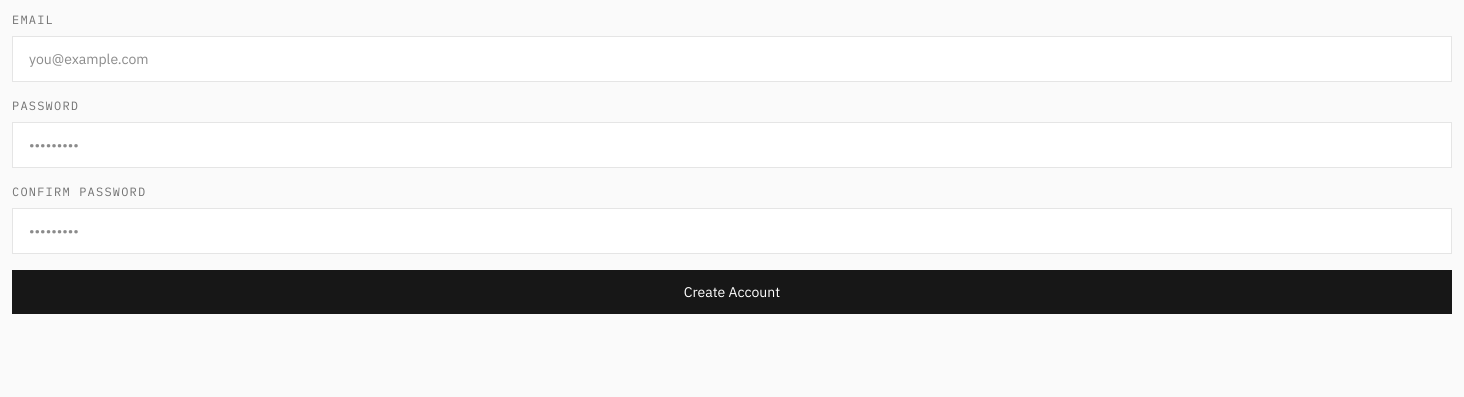
it: AuthForm › register mode › should validate password length
Fill in email (required field) and passwords
Type "test@example.com" into the field labelled "Email" at (732, 59), box [12,36,1452,82]
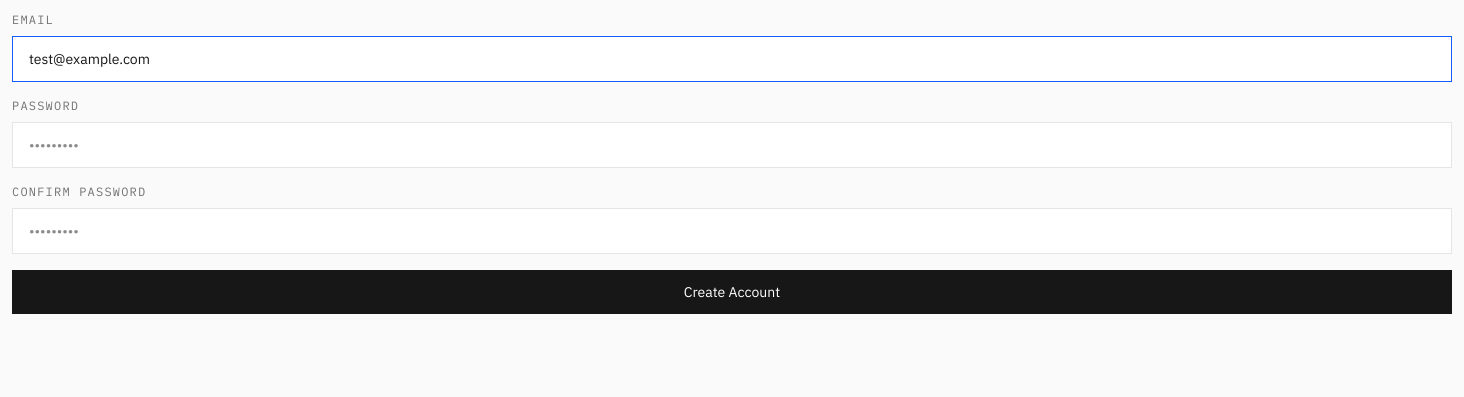
Type "short" into the password field labelled "Password" at (732, 145), box [12,122,1452,168]
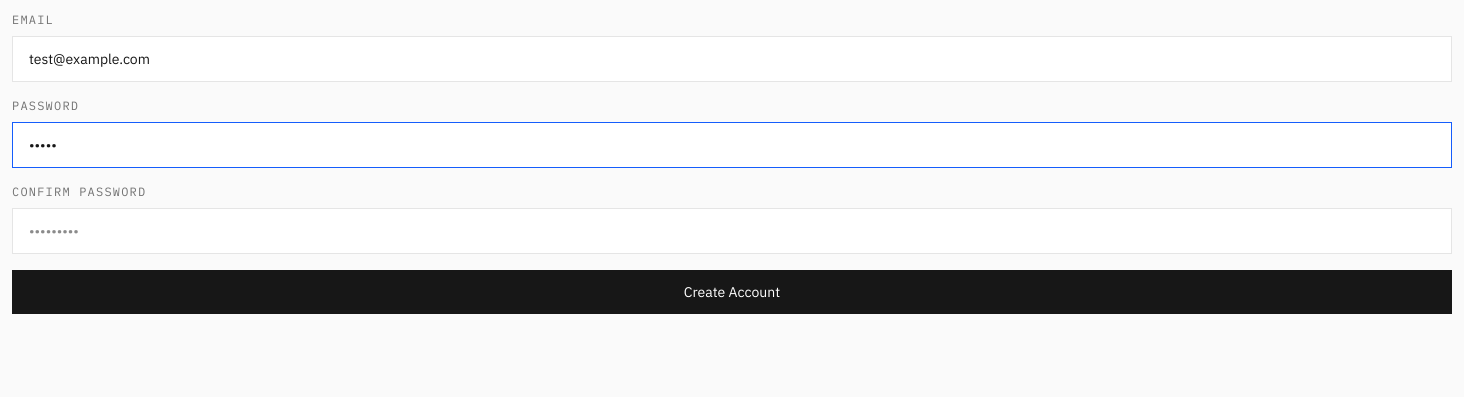
Type "short" into the password field labelled "Confirm Password" at (732, 231), box [12,208,1452,254]
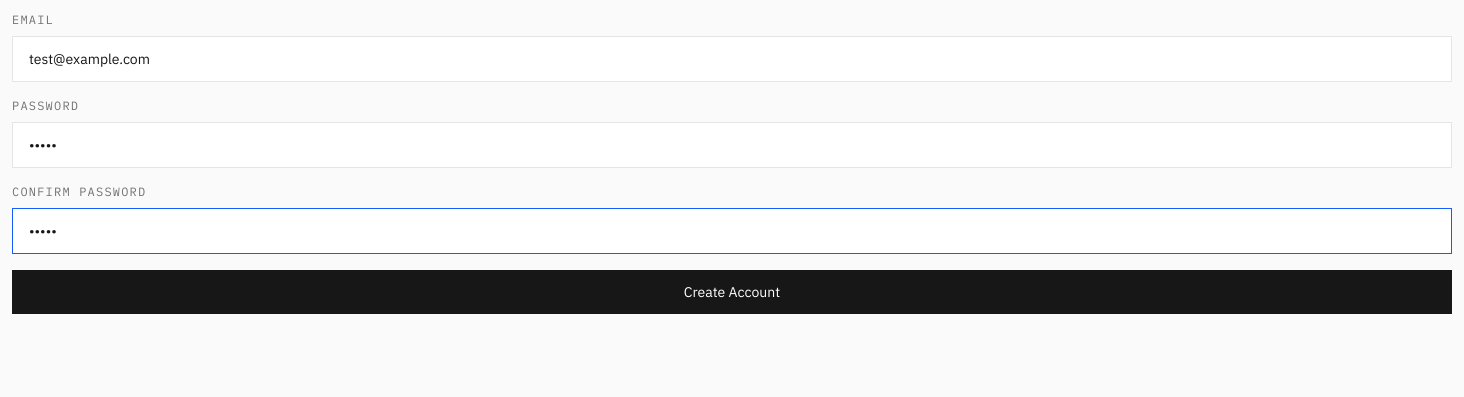
Submit the form
Click the button "Create Account" at (732, 292), box [12,270,1452,314]
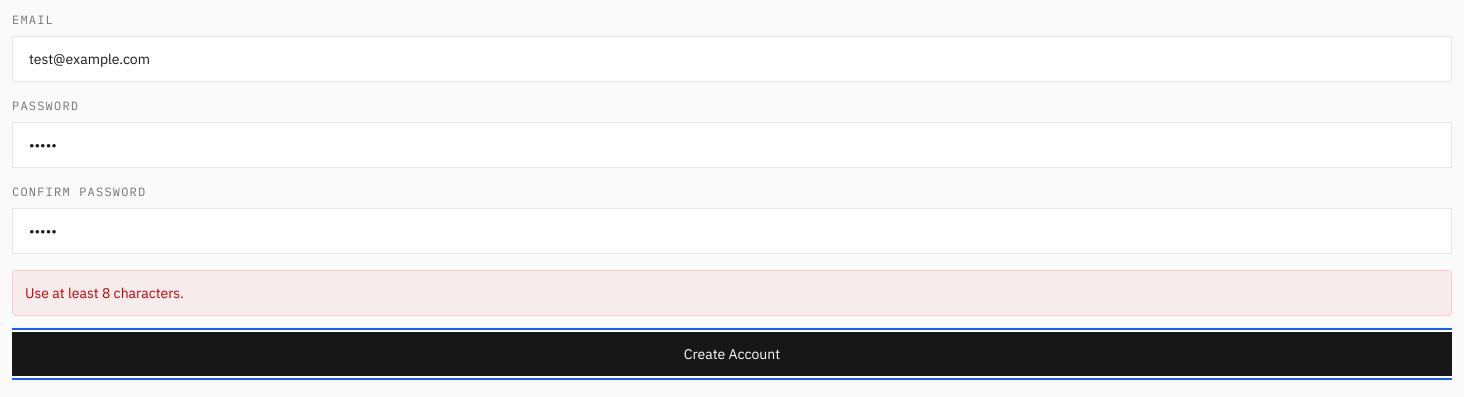
Result: the text "Use at least 8 characters." is shown at [12,270,1452,316]
